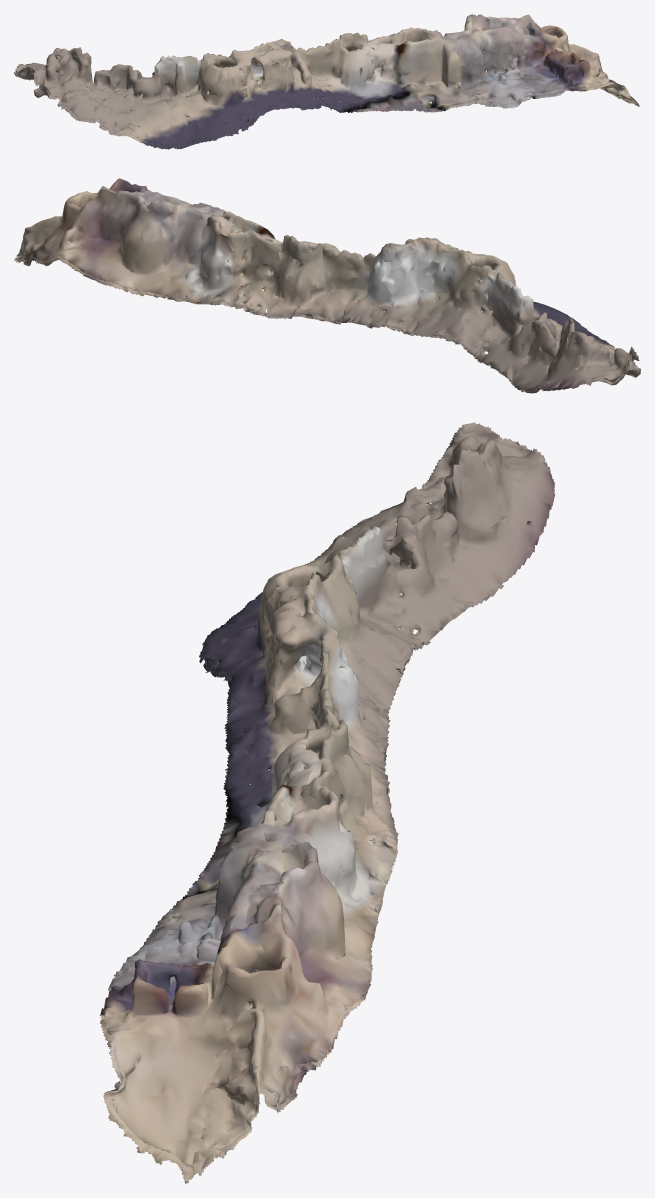
File: Fire_Geometries.fbx
The picture shows the model from 3 angles, top to bottom: view 1: azimuth 30°, elevation 25°; view 2: azimuth 150°, elevation 25°; view 3: azimuth 270°, elevation 25°; orthographic projection. The views are drawn at different scales.
Visible parts, largest first — view 1: UTM_zuhak; view 2: UTM_zuhak; view 3: UTM_zuhak.
Part boxes in pixels (x1,y1,x2,y2): UTM_zuhak: (14, 14, 639, 149); UTM_zuhak: (14, 178, 640, 393); UTM_zuhak: (99, 422, 555, 1183).
Bounding box in the file's own units: 132 × 29.76 × 47.9.
